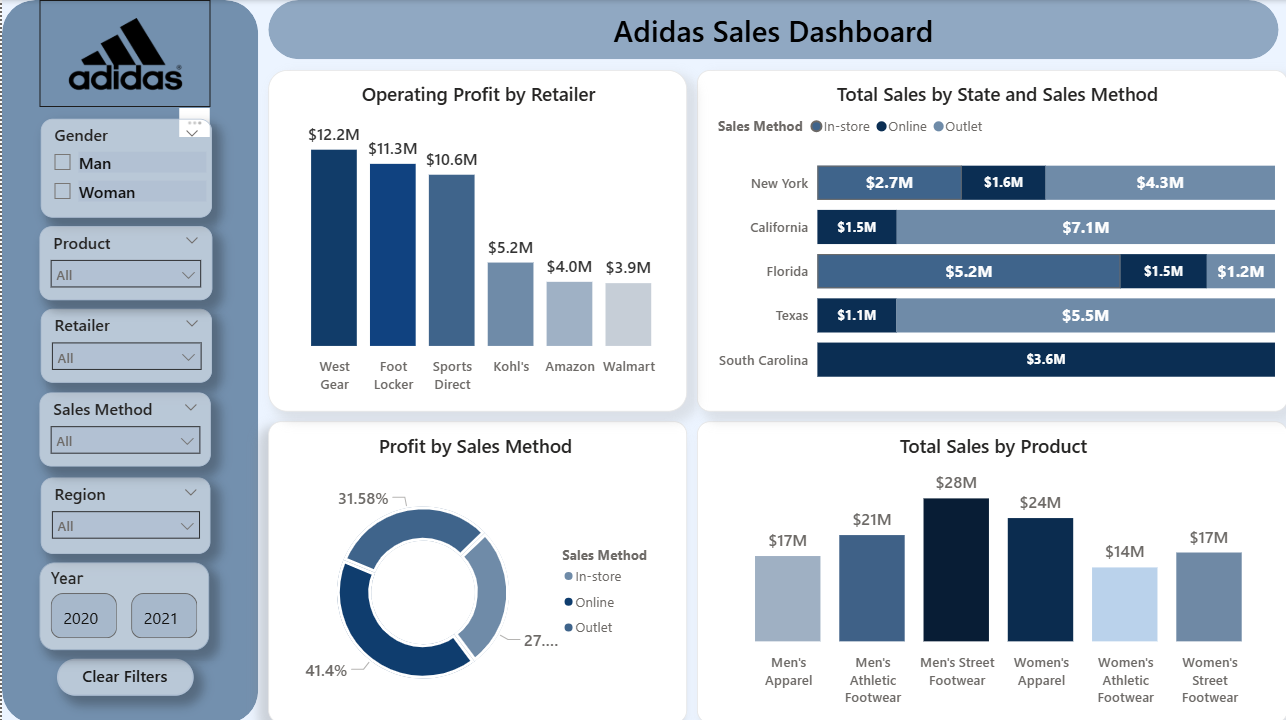

The dashboard page shown, as its layout file describes it:
{"tool":"powerbi","page":{"name":"Channel & Product","canvas":[1280,720],"ordinal":1},"visuals":[{"type":"shape","box":[0,0,255,720.3],"z":0},{"type":"donutChart","title":"Profit by Sales Method","fields":{"Category":["Method.Sales Method"],"Y":["Sum(Data Sales Adidas.Operating Profit)"]},"box":[265,419.2,416.7,301],"z":1000},{"type":"shape","box":[264.4,0,1005.6,58.9],"z":2000},{"type":"clusteredColumnChart","title":"Total Sales by Product","fields":{"Y":["Sum(Data Sales Adidas.Total Sales)"],"Category":["Product.Product"]},"box":[691.6,419.2,588.4,301],"z":3000},{"type":"hundredPercentStackedBarChart","title":"Total Sales by State and Sales Method","fields":{"Category":["Data Sales Adidas.State"],"Y":["Sum(Data Sales Adidas.Total Sales)","select"],"Series":["Method.Sales Method"]},"box":[691.6,69.7,588.4,339.6],"z":4000},{"type":"image","box":[37.3,0,170.9,107.3],"z":5000},{"type":"slicer","fields":{"Values":["Region.Region"]},"box":[38.6,475.2,169.2,75.9],"z":6000},{"type":"slicer","fields":{"Values":["Retailer.Retailer"]},"box":[38.6,307.3,170.4,73.4],"z":7000},{"type":"slicer","fields":{"Values":["Method.Sales Method"]},"box":[37.3,390.6,170.4,73.4],"z":8000},{"type":"slicer","fields":{"Values":["Product.Gender"]},"box":[38.6,118.2,170.4,98.3],"z":9000},{"type":"slicer","fields":{"Values":["Product.Product"]},"box":[37.3,225.2,171.7,73.4],"z":10000},{"type":"actionButton","box":[54.3,655.7,135.7,37.1],"z":11000},{"type":"columnChart","title":"Operating Profit by Retailer","fields":{"Category":["Retailer.Retailer"],"Y":["Sum(Data Sales Adidas.Operating Profit)"]},"box":[265,69.7,416.7,339.6],"z":12000},{"type":"advancedSlicerVisual","fields":{"Values":["Date.Year"]},"box":[37.3,559.8,169.2,87.1],"z":13000}]}

Visuals, with their boxes in screenshot pixels (x1, y1, x2, y2), scaled from the page's 1280x720 canvas onto the 1286x720 screenshot:
shape: bbox=(0, 0, 256, 719)
"Profit by Sales Method" donutChart: bbox=(266, 419, 685, 719)
shape: bbox=(266, 0, 1276, 59)
"Total Sales by Product" clusteredColumnChart: bbox=(695, 419, 1285, 719)
"Total Sales by State and Sales Method" hundredPercentStackedBarChart: bbox=(695, 70, 1285, 409)
image: bbox=(37, 0, 209, 107)
slicer - Region.Region: bbox=(39, 475, 209, 551)
slicer - Retailer.Retailer: bbox=(39, 307, 210, 381)
slicer - Method.Sales Method: bbox=(37, 391, 209, 464)
slicer - Product.Gender: bbox=(39, 118, 210, 216)
slicer - Product.Product: bbox=(37, 225, 210, 299)
actionButton: bbox=(55, 656, 191, 693)
"Operating Profit by Retailer" columnChart: bbox=(266, 70, 685, 409)
advancedSlicerVisual - Date.Year: bbox=(37, 560, 207, 647)
